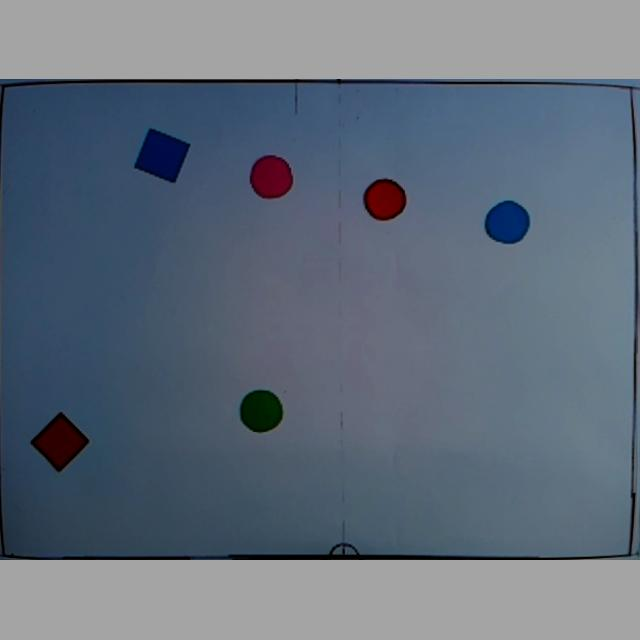blueCircle: (486, 202, 530, 246)
blueSquare: (134, 129, 190, 187)
greenCircle: (240, 390, 284, 436)
pinkCircle: (249, 156, 293, 202)
redCircle: (363, 180, 407, 224)
redSquare: (30, 414, 90, 474)
